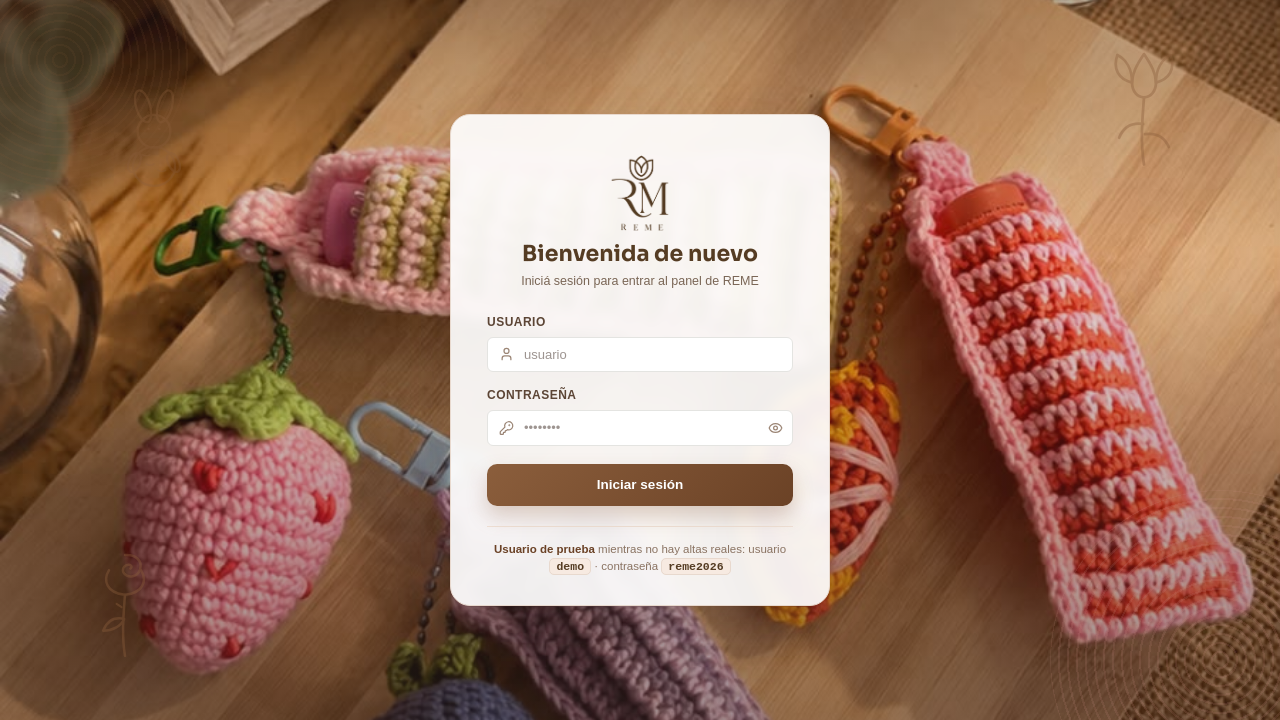
Test: Login › muestra el error del backend cuando las credenciales son inválidas
Type "demo" into the field labelled "Usuario" at (640, 354), box [487,336,793,372]
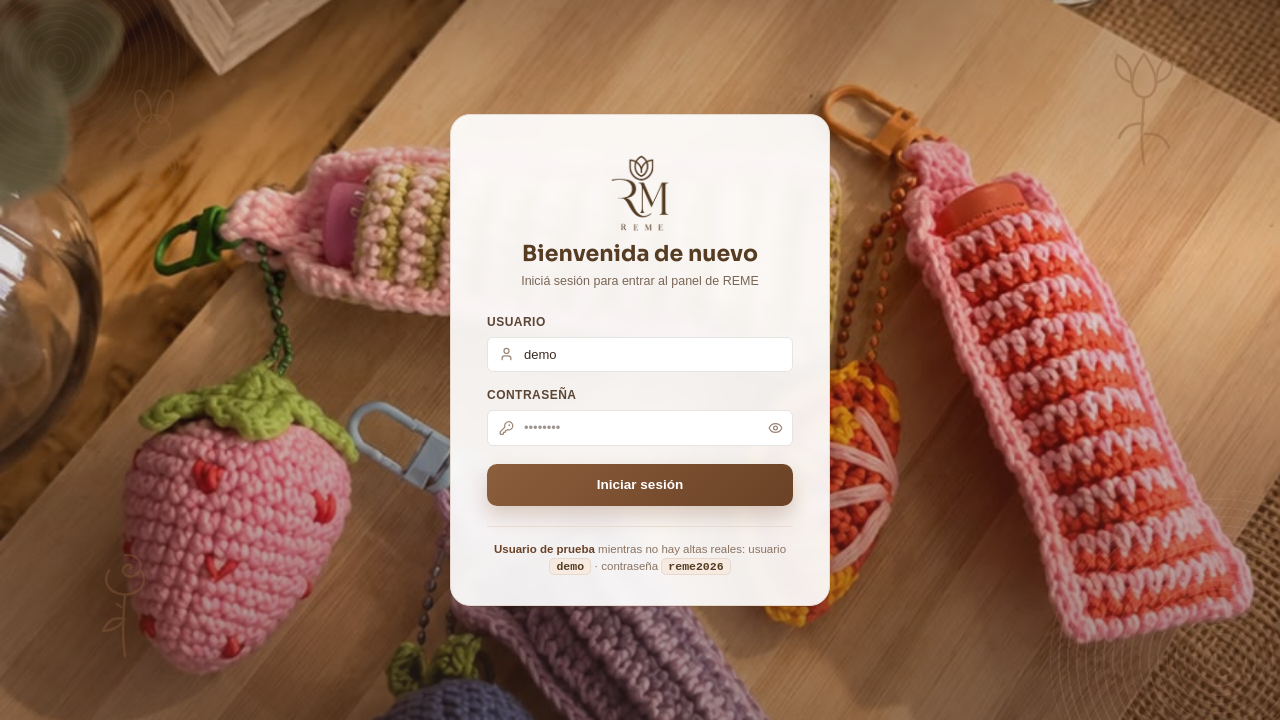
Type "mal" into the password field labelled "Contraseña" at (640, 428), box [487,410,793,446]
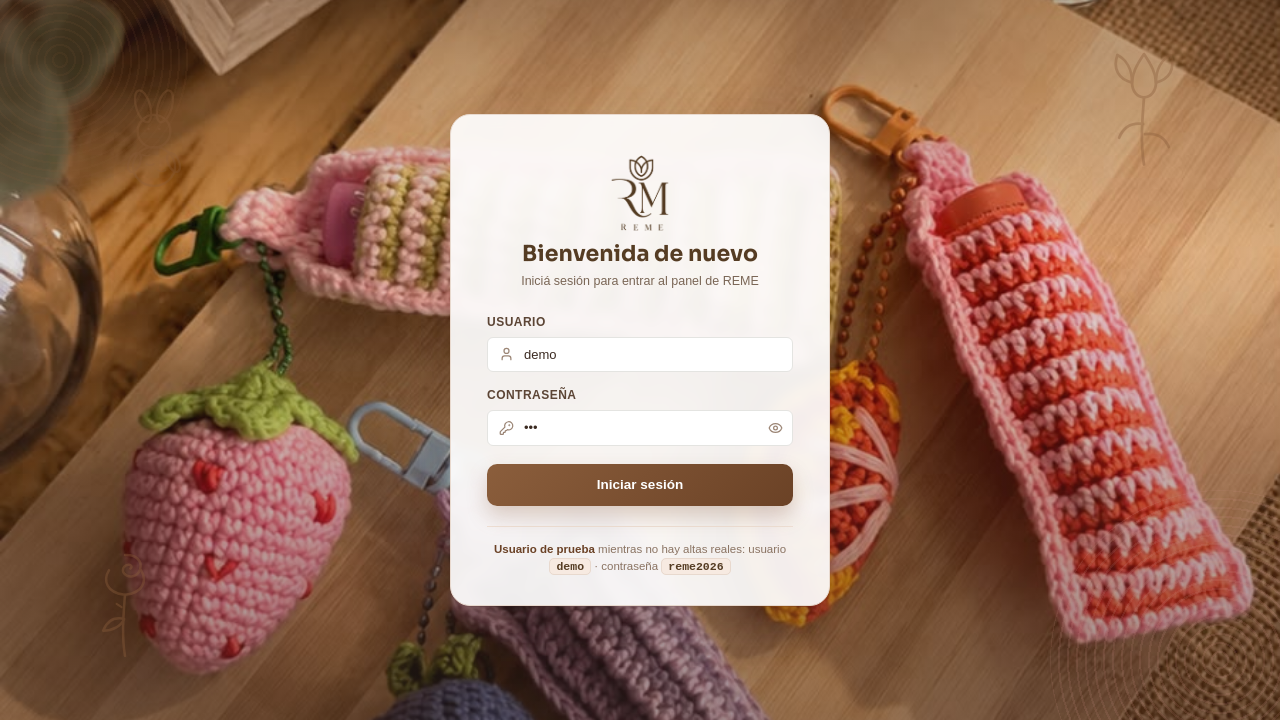
Click the button "Iniciar sesión" at (640, 485), box [487,464,793,506]
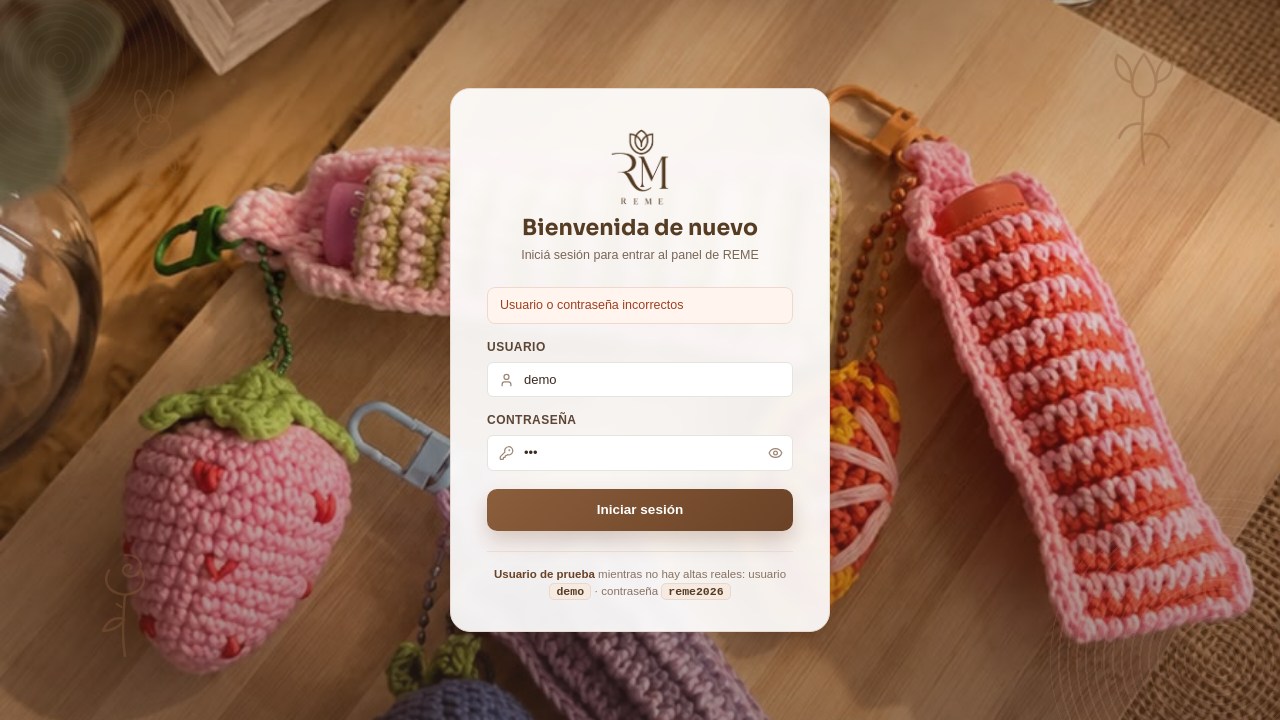
Expected: the text "Usuario o contraseña incorrectos" is shown, [487,287,793,324]
